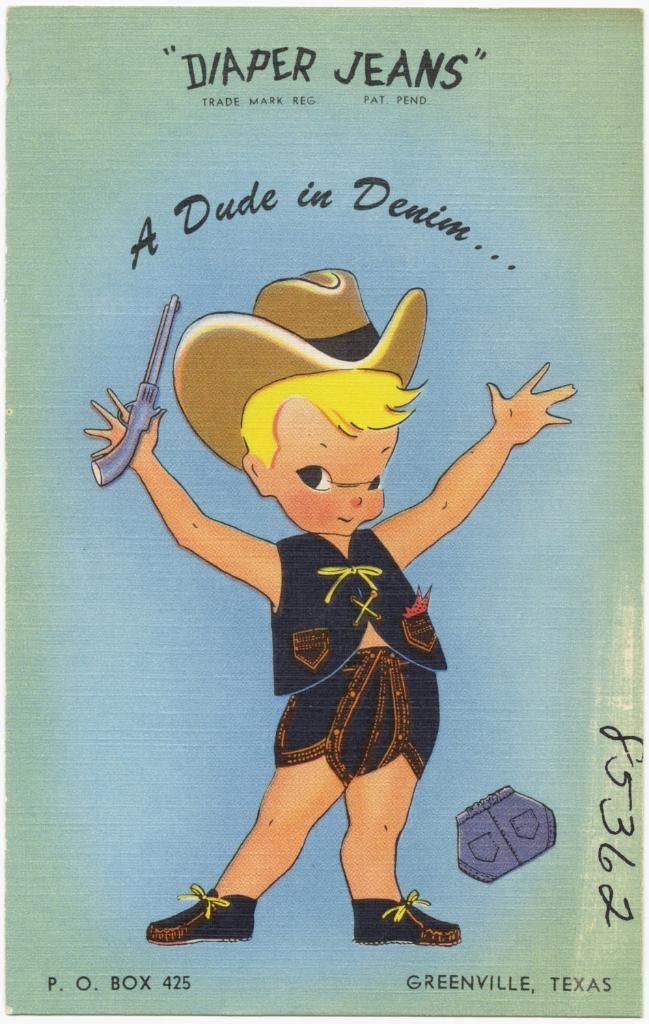Hat: (173, 267, 430, 470)
